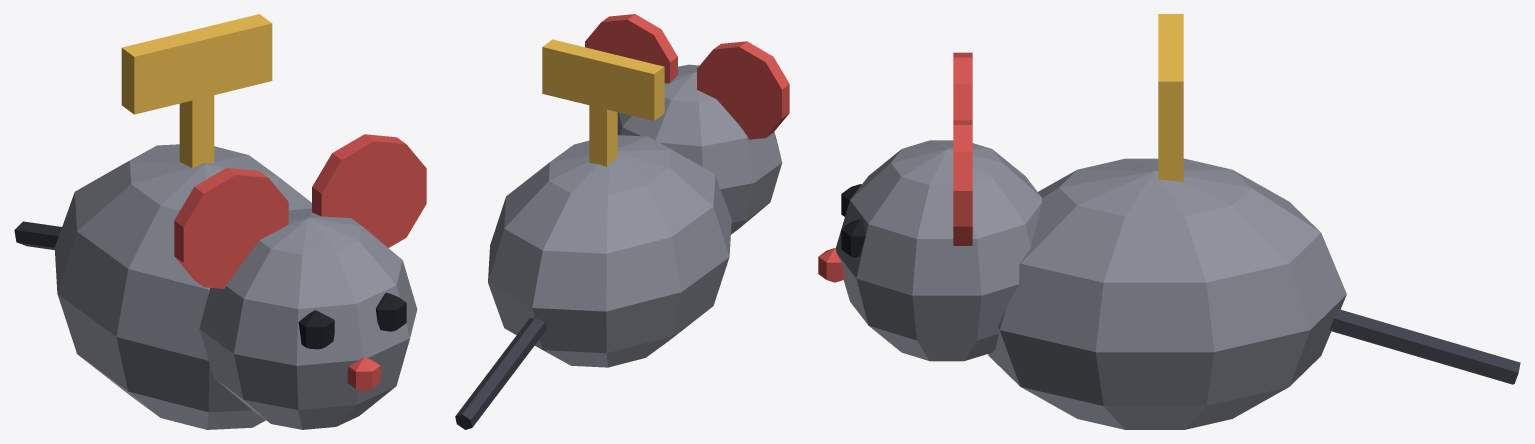
File: mdl_mascota_raton.fbx
3 views of the same model, side by side, from view 1: azimuth 30°, elevation 25°; view 2: azimuth 150°, elevation 25°; view 3: azimuth 270°, elevation 25° (orthographic). The views are drawn at different scales.
Visible parts, largest first — view 1: mdl_mascota_raton; view 2: mdl_mascota_raton; view 3: mdl_mascota_raton.
Part boxes in pixels (<box>): mdl_mascota_raton: <box>14,14,426,429</box>; mdl_mascota_raton: <box>455,14,789,429</box>; mdl_mascota_raton: <box>818,14,1520,429</box>.
Size of the model in its own units: 88.04 by 128 by 219.
